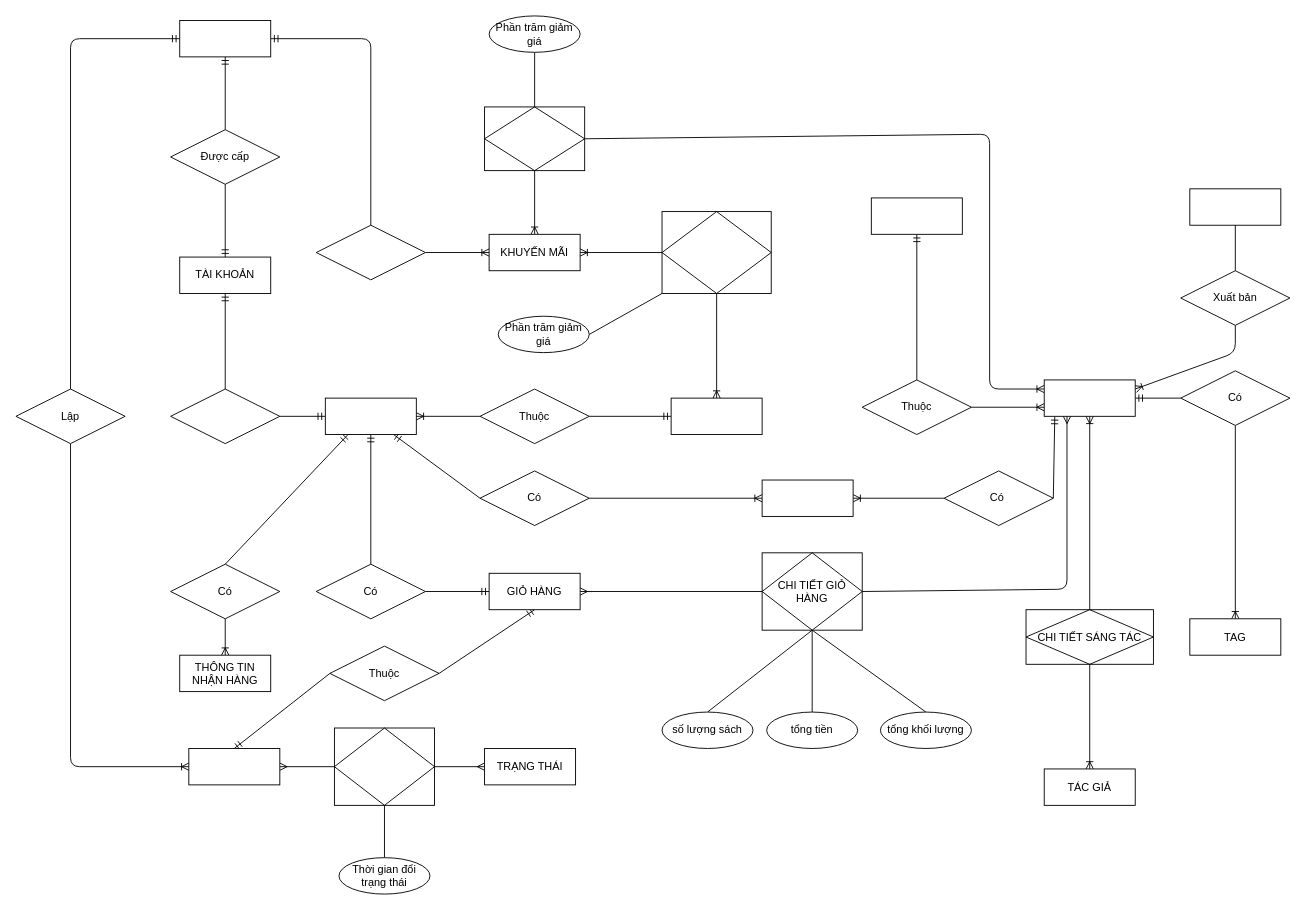
Some shapes in this 1306 by 910 pixel diagram are drawn without their labels. The shapes that lost their labels are listed below. From the top down, each one's centre as x and y in pixels, then its label:
At point (225, 38): "NHÂN VIÊN".
At point (534, 138): "KHUYẾN MÃI SÁCH".
At point (916, 215): "LOẠI SÁCH".
At point (1235, 206): "NHÀ XUẤT BẢN".
At point (370, 252): "Tạo ra".
At point (716, 252): "KHUYẾN MÃI KHÁCH HÀNG".
At point (225, 416): "Sử dụng".
At point (370, 416): "KHÁCH HÀNG".
At point (716, 416): "LOẠI KHÁCH HÀNG".
At point (1089, 397): "SÁCH".
At point (807, 497): "ĐÁNH GIÁ".
At point (234, 766): "HOÁ ĐƠN".
At point (384, 766): "TRẠNG THÁI HOÁ ĐƠN".
